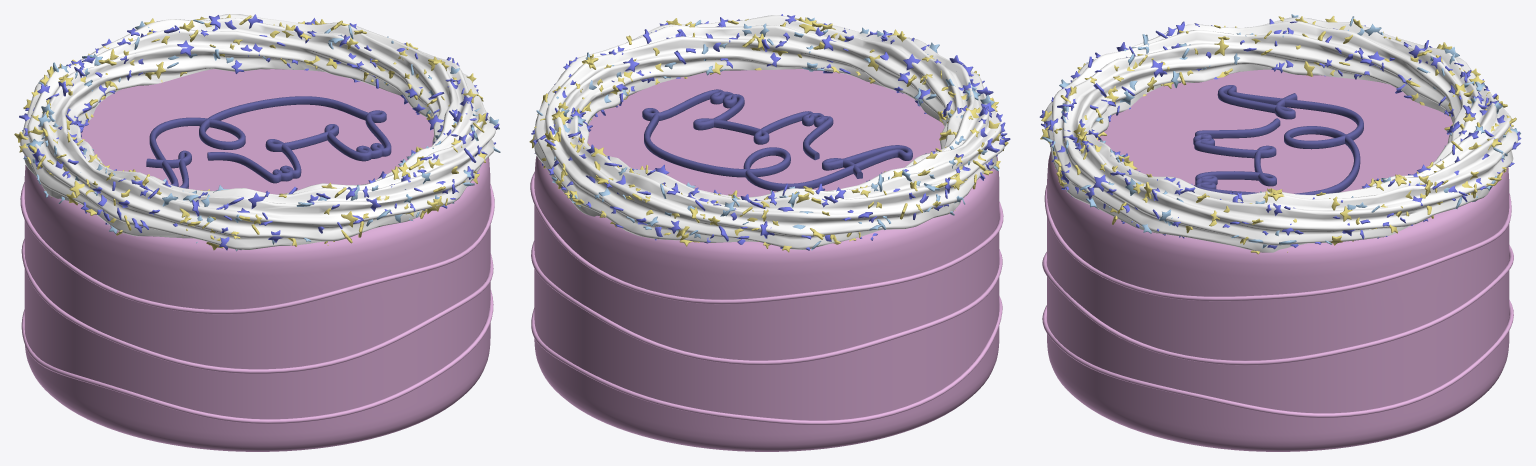
Rendered from cake.glb.
The picture shows the model from 3 angles, left to right: view 1: azimuth 30°, elevation 25°; view 2: azimuth 150°, elevation 25°; view 3: azimuth 270°, elevation 25°; orthographic projection.
Visible parts, largest first — view 1: cake_bread, cake_cream_deco, cake_deco, blue, yellow, BézierCircle.003, white blue, BézierCircle.002, BézierCircle.001; view 2: cake_bread, cake_cream_deco, cake_deco, blue, yellow, white blue, BézierCircle.003, BézierCircle.002, BézierCircle.001; view 3: cake_bread, cake_cream_deco, cake_deco, blue, yellow, BézierCircle.002, BézierCircle.001, BézierCircle.003, white blue.
Boxes of the visible parts, bbox=[...] form: cake_bread: bbox=[24, 69, 490, 451]; cake_cream_deco: bbox=[20, 14, 495, 249]; cake_deco: bbox=[146, 96, 391, 188]; blue: bbox=[19, 14, 499, 250]; yellow: bbox=[14, 14, 486, 250]; BézierCircle.003: bbox=[20, 182, 494, 314]; white blue: bbox=[22, 19, 500, 251]; BézierCircle.002: bbox=[21, 290, 493, 423]; BézierCircle.001: bbox=[21, 239, 493, 373]; cake_bread: bbox=[534, 69, 999, 451]; cake_cream_deco: bbox=[533, 15, 1004, 249]; cake_deco: bbox=[642, 89, 912, 191]; blue: bbox=[531, 14, 1010, 250]; yellow: bbox=[529, 17, 1008, 252]; white blue: bbox=[536, 17, 998, 250]; BézierCircle.003: bbox=[530, 171, 1003, 304]; BézierCircle.002: bbox=[531, 296, 1002, 424]; BézierCircle.001: bbox=[531, 241, 1002, 365]; cake_bread: bbox=[1047, 69, 1509, 451]; cake_cream_deco: bbox=[1045, 17, 1517, 252]; cake_deco: bbox=[1193, 85, 1363, 194]; blue: bbox=[1039, 19, 1521, 249]; yellow: bbox=[1040, 16, 1516, 254]; BézierCircle.002: bbox=[1042, 300, 1513, 417]; BézierCircle.001: bbox=[1042, 245, 1513, 365]; BézierCircle.003: bbox=[1044, 185, 1511, 301]; white blue: bbox=[1042, 14, 1520, 248].
Size of the model in its own units: 0.3086 by 0.1847 by 0.3093.
